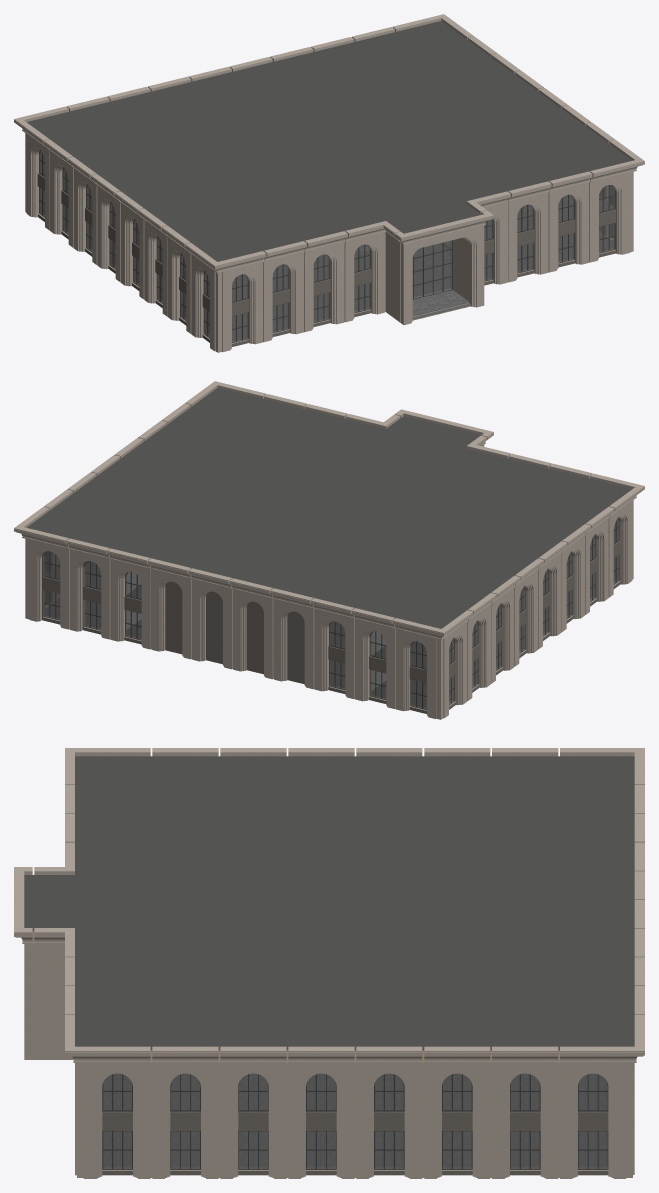
The model's file is C_NhanAn.glb.
3 renders of one model, top to bottom at view 1: azimuth 30°, elevation 25°; view 2: azimuth 150°, elevation 25°; view 3: azimuth 270°, elevation 25°, orthographic. The views are drawn at different scales.
Parts seen in each view (by area): view 1: Material8, Material75 (×6), Material23, Material28, Material62 (×2), Material78; view 2: Material8, Material75 (×6), Material78, Material23, Material62, Material28, Material11; view 3: Material8, Material75 (×6), Material23, Material28, Material78, Material62.
Boxes of the visible parts, box(x1,y1,x2,y2) form: Material8: box(26, 21, 632, 261); Material75 (×6): box(14, 14, 644, 352); Material23: box(39, 150, 614, 342); Material28: box(43, 173, 613, 341); Material62 (×2): box(39, 150, 615, 343); Material78: box(37, 167, 615, 346); Material8: box(26, 388, 632, 628); Material75 (×6): box(14, 381, 644, 719); Material78: box(42, 540, 620, 713); Material23: box(44, 518, 619, 709); Material62: box(43, 517, 619, 710); Material28: box(45, 540, 614, 708); Material11: box(127, 572, 385, 690); Material8: box(24, 756, 634, 1050); Material75 (×6): box(14, 748, 644, 1178); Material23: box(103, 1073, 607, 1168); Material28: box(103, 1074, 607, 1167); Material78: box(102, 1111, 608, 1175); Material62: box(102, 1074, 608, 1169).
Size of the model in its own units: 42.2 by 8.58 by 37.15.
Materials: 11 (5 with a texture image).
